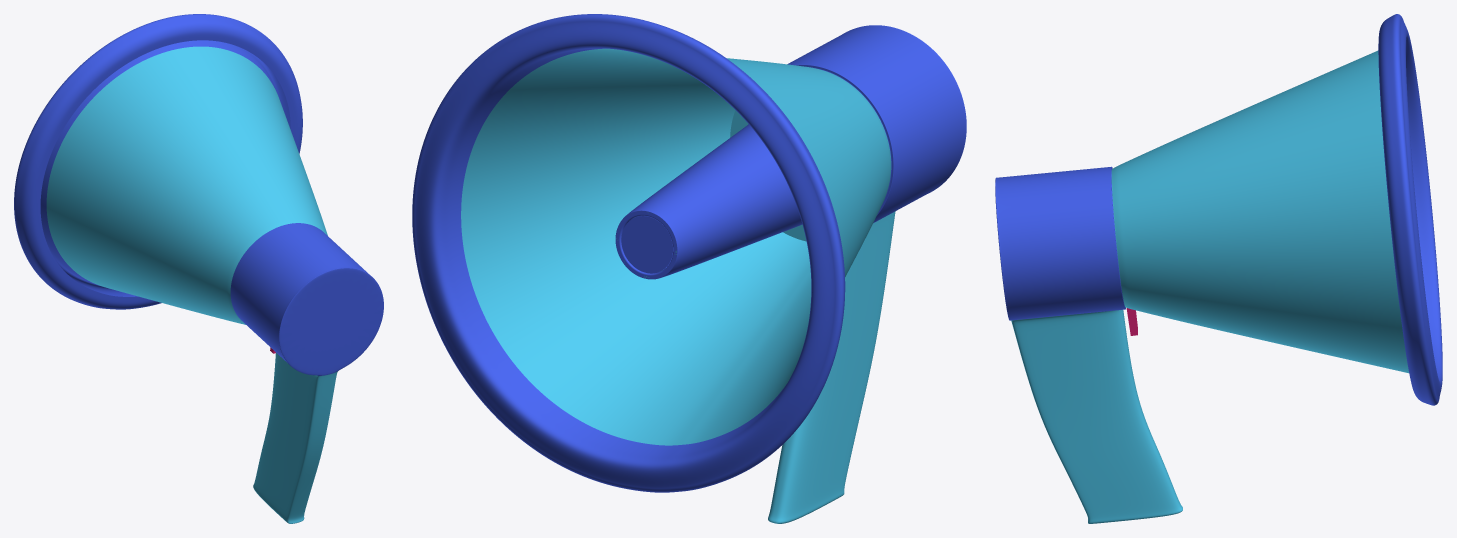
File: mic.fbx
3 renders of one model, left to right at view 1: azimuth 30°, elevation 25°; view 2: azimuth 150°, elevation 25°; view 3: azimuth 270°, elevation 25°, orthographic. The views are drawn at different scales.
Parts seen in each view (by area): view 1: Cylinder; view 2: Cylinder; view 3: Cylinder.
Boxes of the visible parts, <box> form: Cylinder: <box>14,14,383,523</box>; Cylinder: <box>412,14,966,523</box>; Cylinder: <box>995,14,1442,523</box>.
Size of the model in its own units: 229 by 313 by 260.
